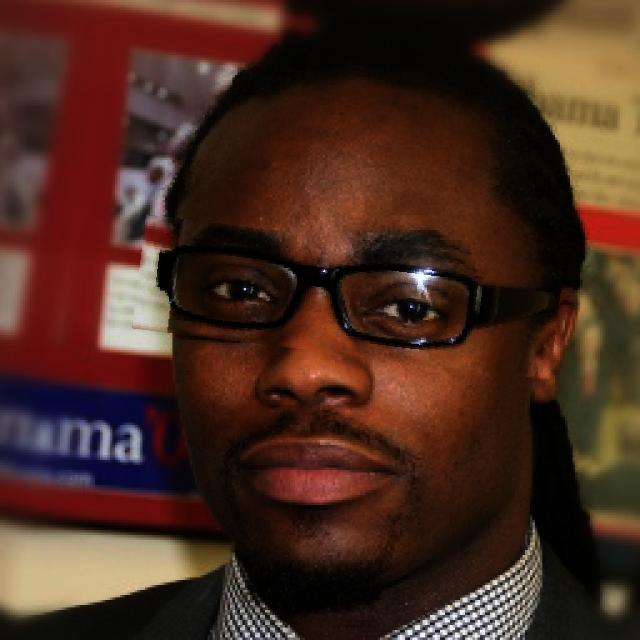glasses: (135, 226, 560, 366)
